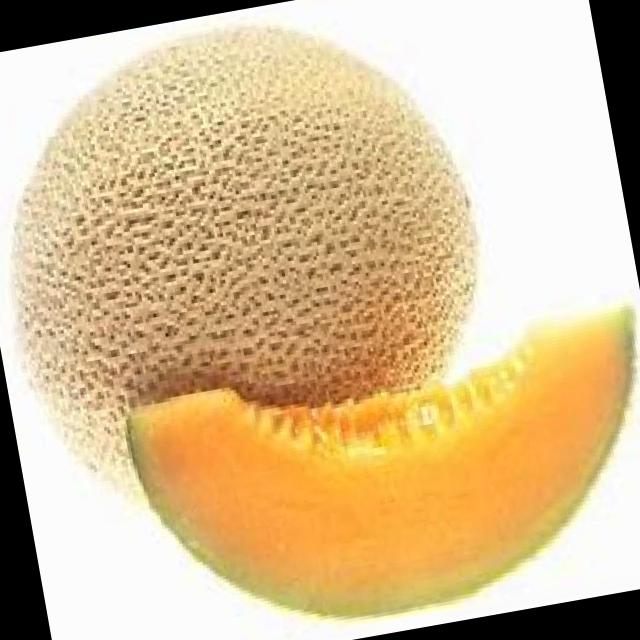Hami Melon: (0, 0, 510, 521), (116, 297, 640, 640)
